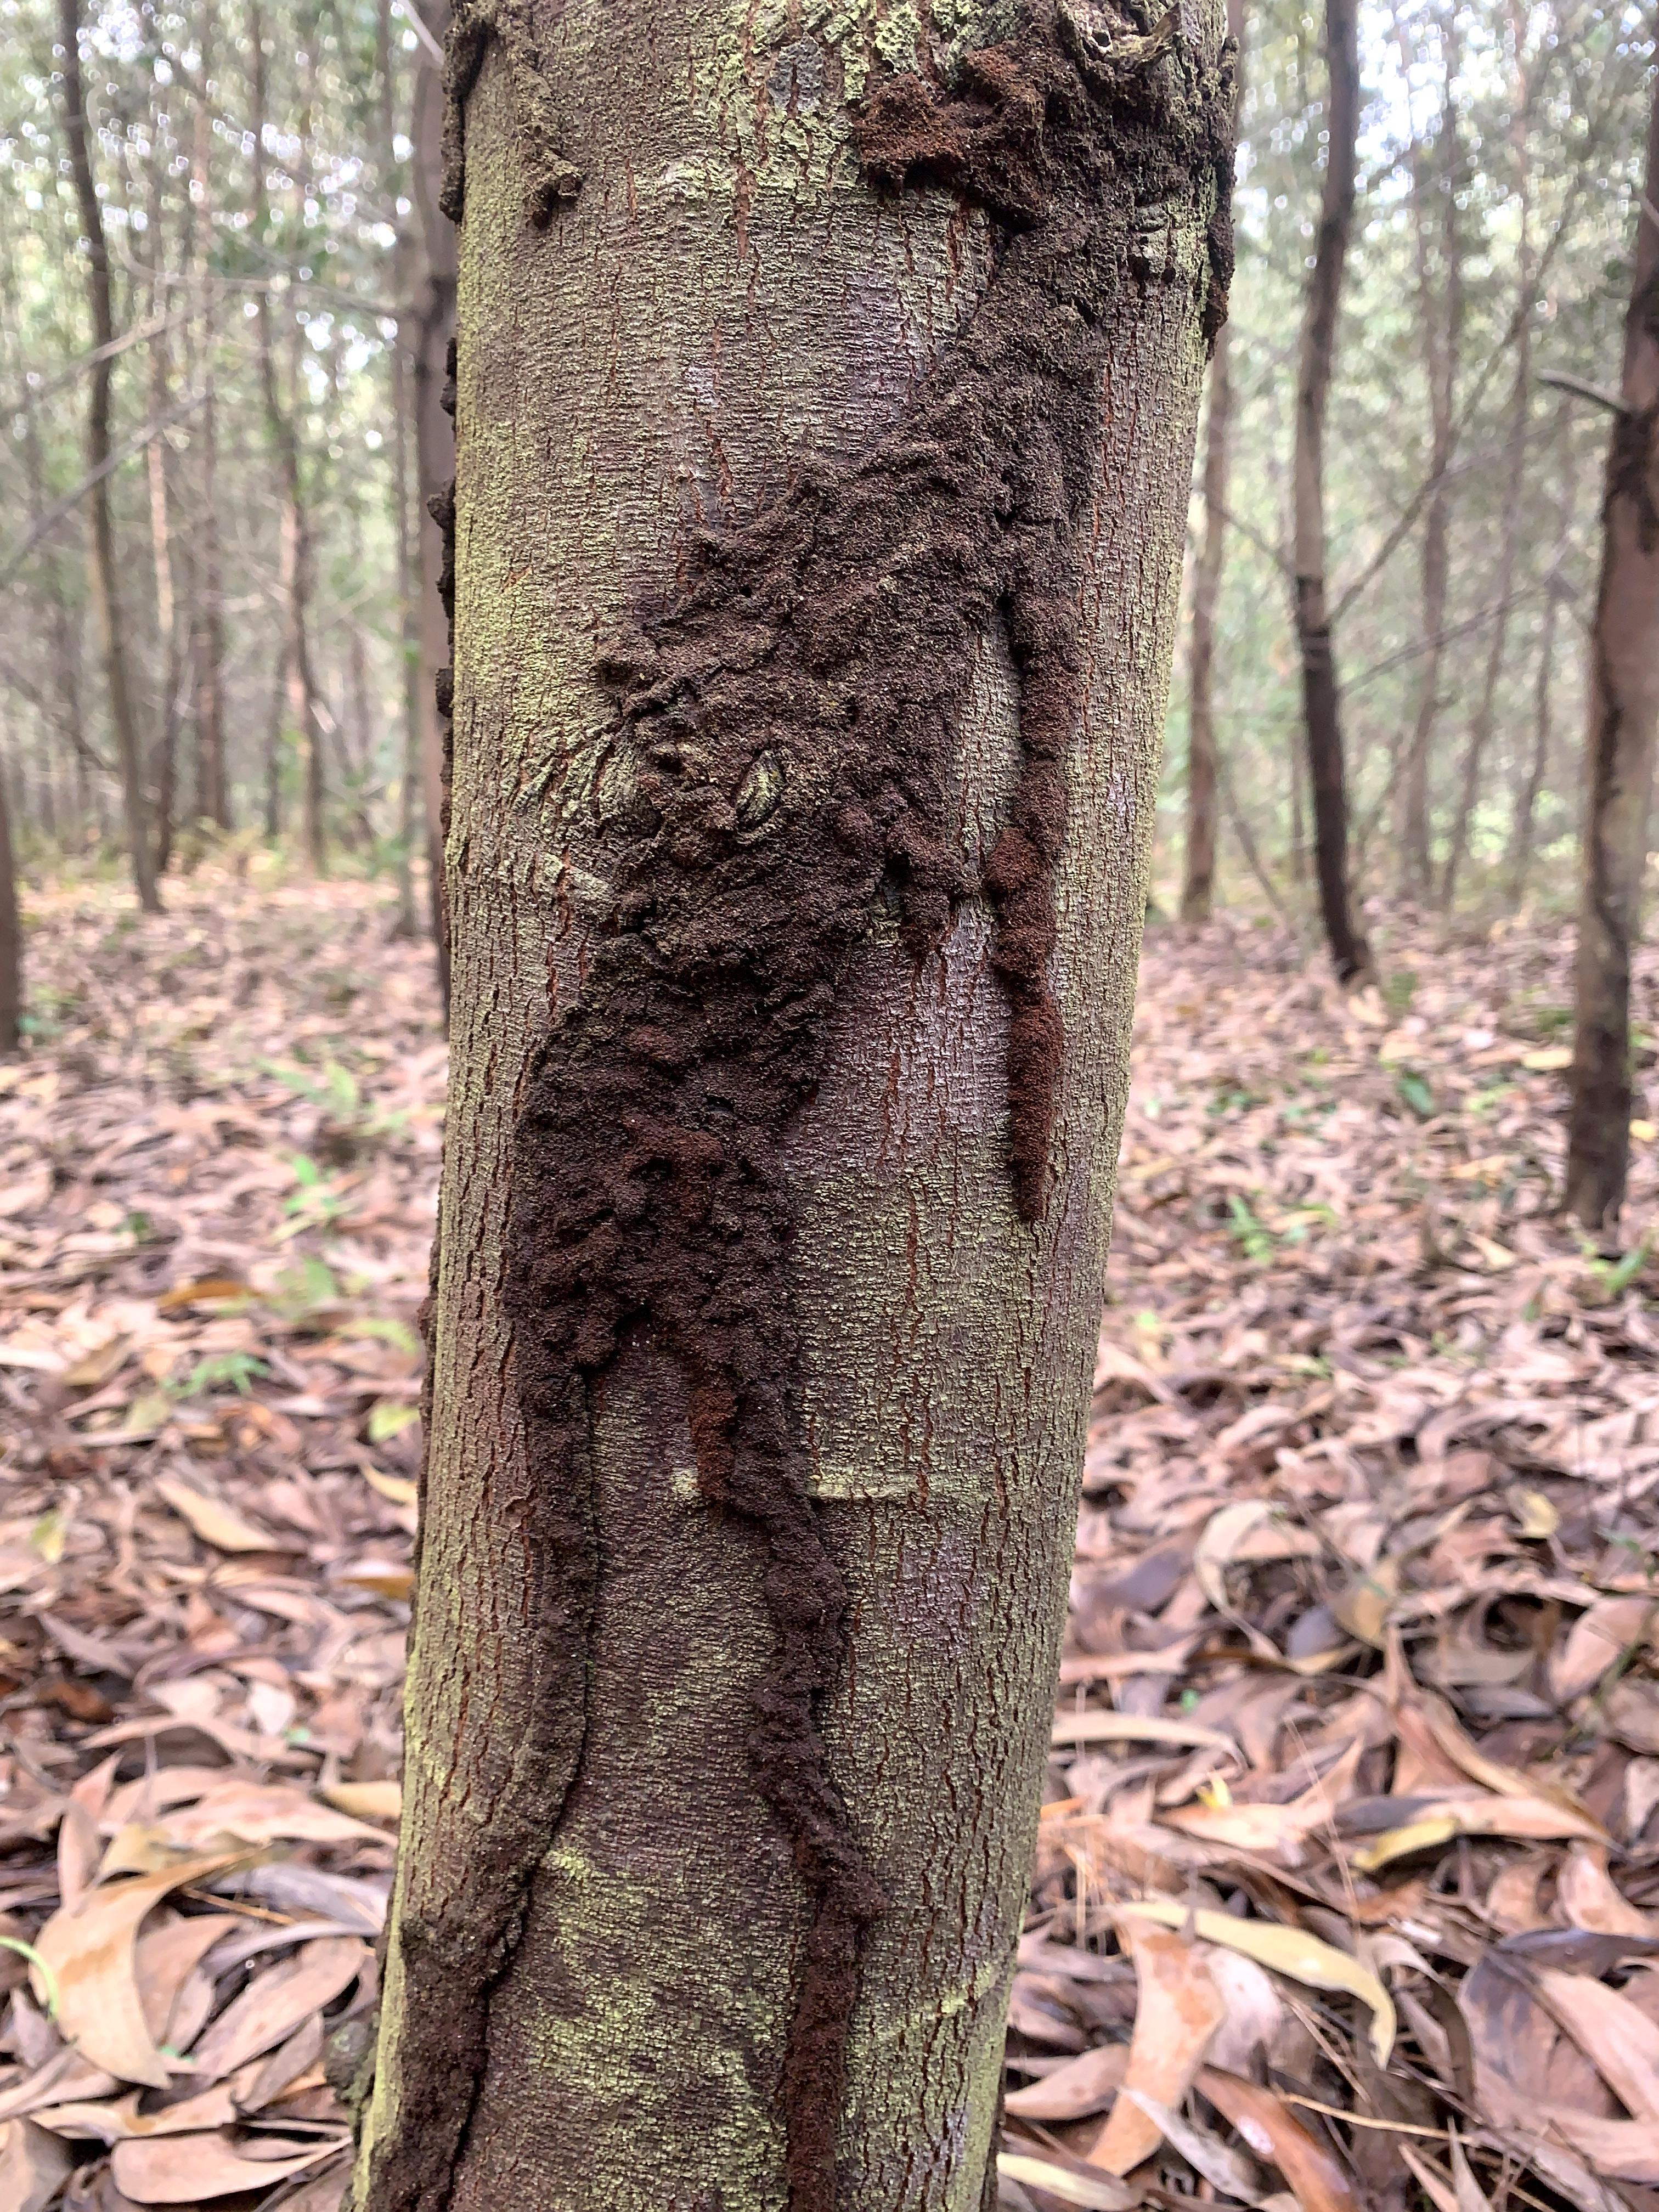Termite - Nest: (464, 23, 1004, 2212)
